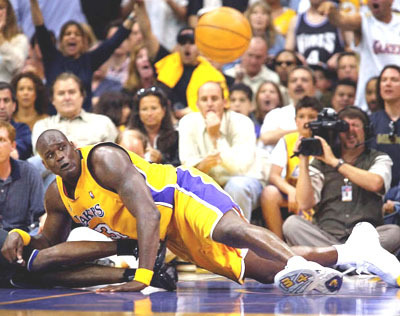10+: (1, 1, 400, 308)
down: (37, 131, 255, 261), (1, 224, 141, 288)
